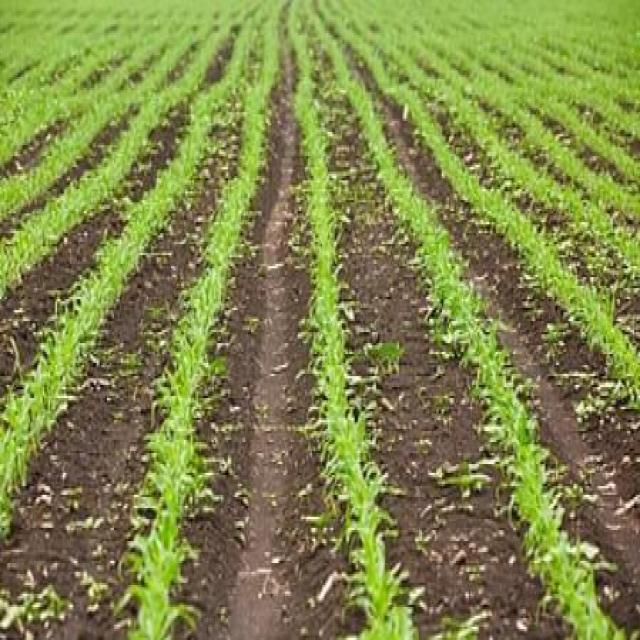row: (336, 34, 640, 631), (301, 22, 582, 640), (0, 22, 268, 640), (179, 14, 353, 640), (0, 23, 243, 411)
